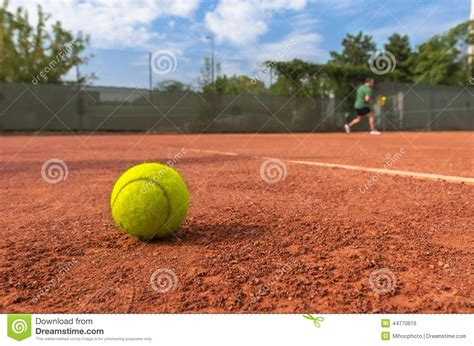tennis_ball: (109, 162, 191, 241)
